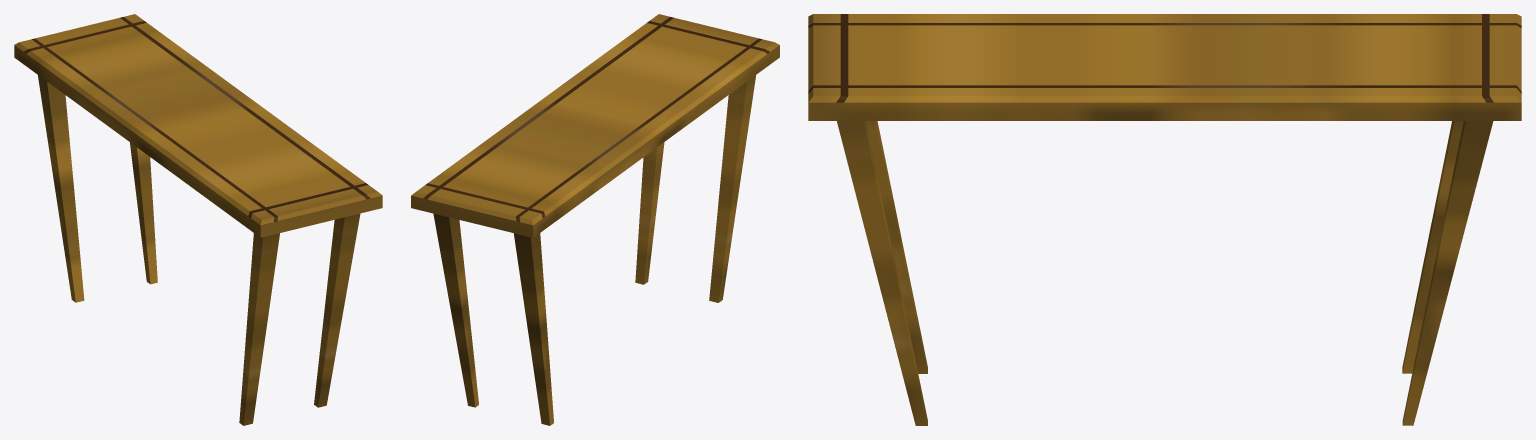
Rendered from hall_table.fbx.
3 views of the same model, side by side, from view 1: azimuth 30°, elevation 25°; view 2: azimuth 150°, elevation 25°; view 3: azimuth 270°, elevation 25° (orthographic). The views are drawn at different scales.
Parts seen in each view (by area): view 1: pCube10; view 2: pCube10; view 3: pCube10.
Boxes of the visible parts, x1,y1,x2,y2 form: pCube10: (14,14,382,425); pCube10: (411,14,779,425); pCube10: (808,14,1521,425).
Size of the model in its own units: 2.87 by 5.29 by 10.01.
